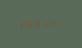nine: (34, 20, 41, 27)
one: (42, 19, 49, 27), (58, 19, 65, 27)
seven: (50, 19, 57, 27)
six: (25, 20, 32, 28)
two: (17, 20, 24, 28)
